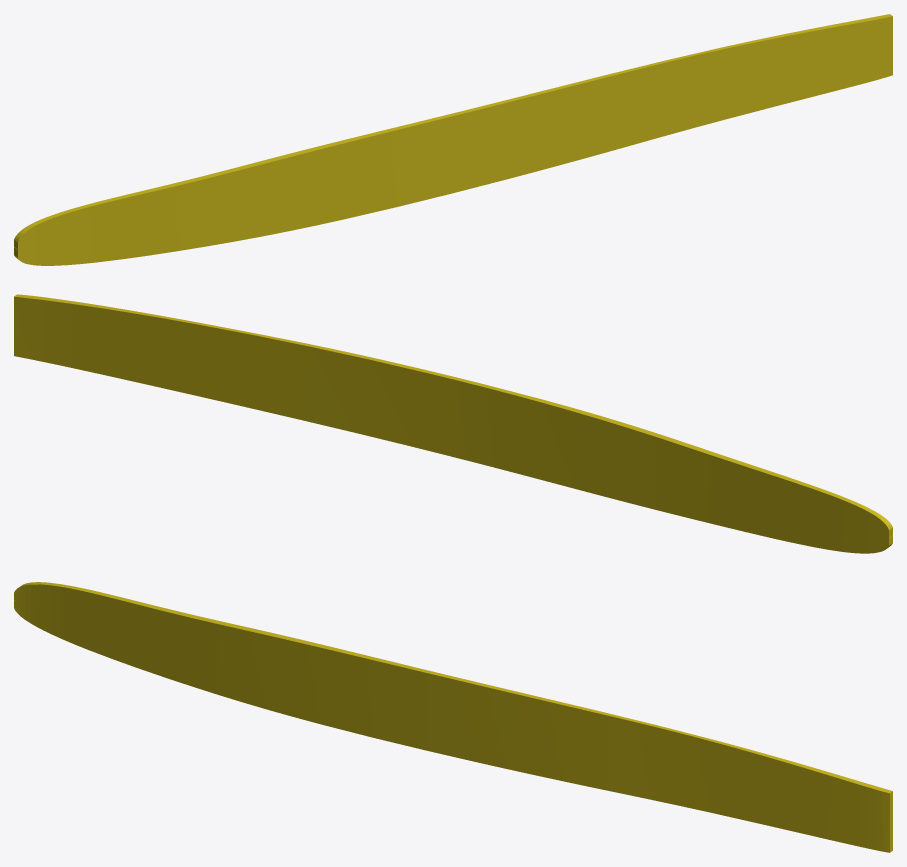
The model's file is port_cover.dae.
3 views of the same model, one above another, from view 1: azimuth 30°, elevation 25°; view 2: azimuth 150°, elevation 25°; view 3: azimuth 330°, elevation 25° (orthographic).
Visible parts, largest first — view 1: port_hull_cover; view 2: port_hull_cover; view 3: port_hull_cover.
Part boxes in pixels (box(x1,y1,x2,y2)): port_hull_cover: box(14, 14, 892, 265); port_hull_cover: box(14, 294, 892, 553); port_hull_cover: box(14, 582, 892, 852).
Bounding box in the file's own units: 5.14 × 0.16 × 0.438.
1 material, 1 textured.
